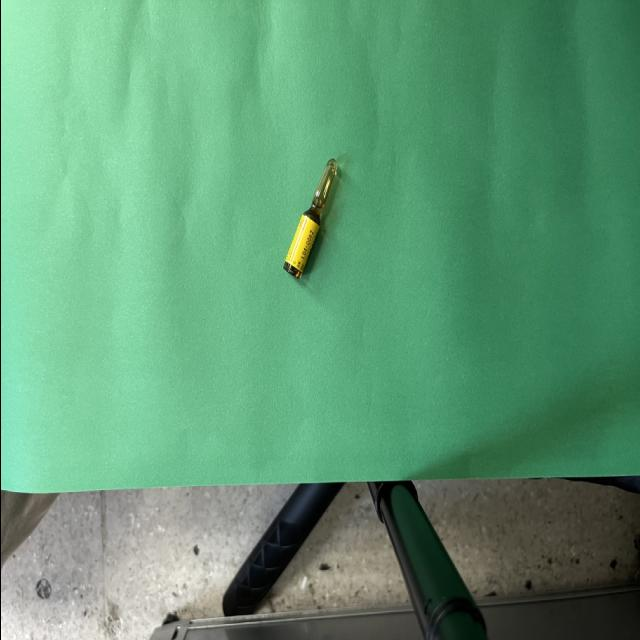Ampoules: (282, 159, 336, 279)
